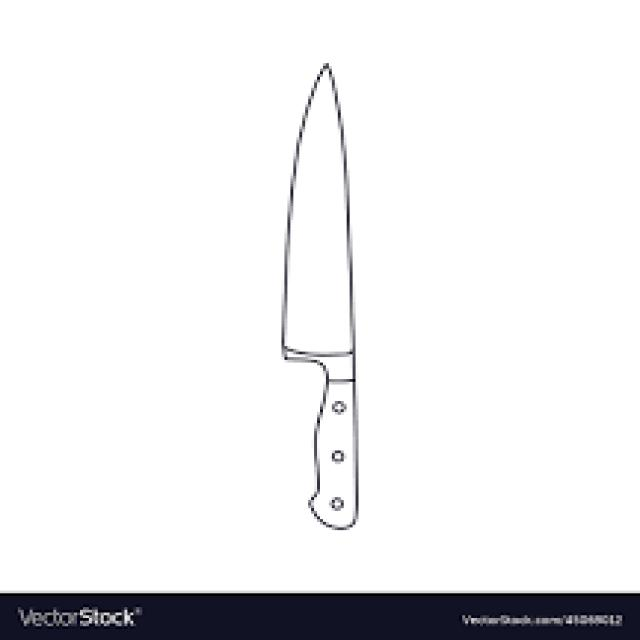Knife: (278, 60, 358, 528)
